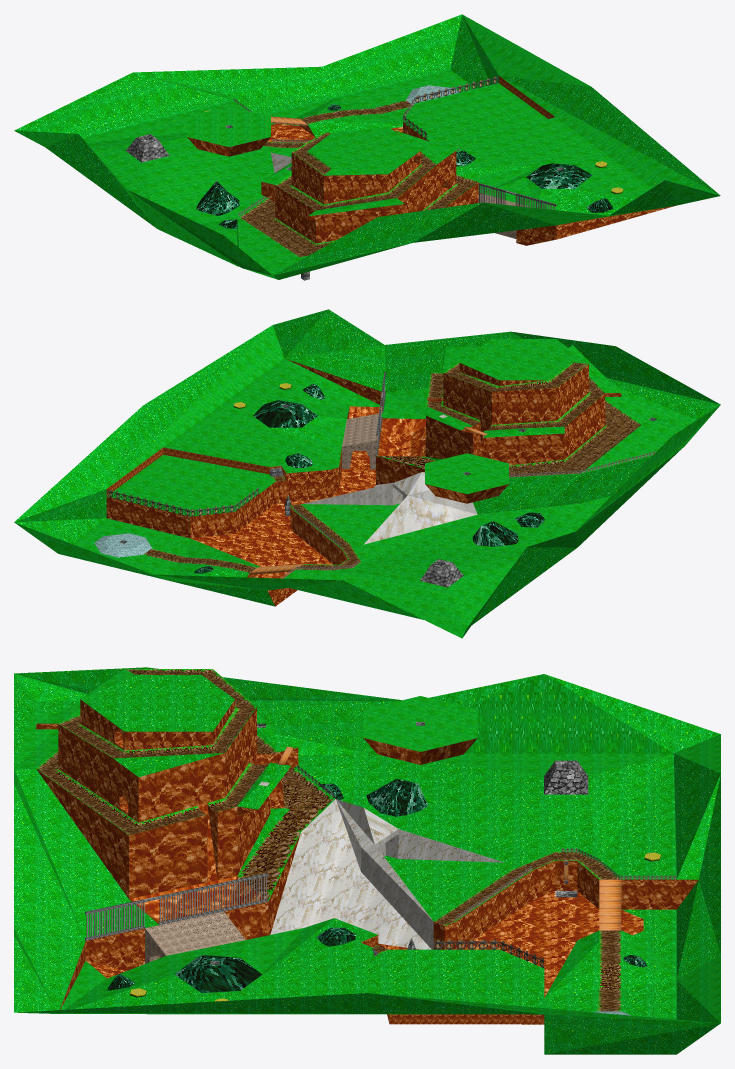
File: test-zone2.glb
3 views of the same model, one above another, from view 1: azimuth 30°, elevation 25°; view 2: azimuth 150°, elevation 25°; view 3: azimuth 270°, elevation 25° (orthographic). The views are drawn at different scales.
Parts seen in each view (by area): view 1: Shape_IndexedFaceSet.009, Shape_IndexedFaceSet.022, Shape_IndexedFaceSet.024, Shape_IndexedFaceSet.025, Shape_IndexedFaceSet.014, Shape_IndexedFaceSet.027, Shape_IndexedFaceSet.010, Shape_IndexedFaceSet.065, Shape_IndexedFaceSet.017, Shape_IndexedFaceSet.064, Shape_IndexedFaceSet.012; view 2: Shape_IndexedFaceSet.009, Shape_IndexedFaceSet.022, Shape_IndexedFaceSet.024, Shape_IndexedFaceSet.016, Shape_IndexedFaceSet.025, Shape_IndexedFaceSet.014, Shape_IndexedFaceSet.010, Shape_IndexedFaceSet.027, Shape_IndexedFaceSet.065, Shape_IndexedFaceSet.015, Shape_IndexedFaceSet.012, Shape_IndexedFaceSet.017 (+1 smaller); view 3: Shape_IndexedFaceSet.009, Shape_IndexedFaceSet.022, Shape_IndexedFaceSet.016, Shape_IndexedFaceSet.024, Shape_IndexedFaceSet.025, Shape_IndexedFaceSet.014, Shape_IndexedFaceSet.010, Shape_IndexedFaceSet.064, Shape_IndexedFaceSet.015, Shape_IndexedFaceSet.065, Shape_IndexedFaceSet.013, Shape_IndexedFaceSet.017 (+2 smaller).
Boxes of the visible parts, x1,y1,x2,y2 form: Shape_IndexedFaceSet.009: [14, 14, 720, 279]; Shape_IndexedFaceSet.022: [187, 76, 675, 245]; Shape_IndexedFaceSet.024: [262, 127, 455, 216]; Shape_IndexedFaceSet.025: [239, 130, 478, 257]; Shape_IndexedFaceSet.014: [196, 104, 613, 228]; Shape_IndexedFaceSet.027: [244, 200, 328, 256]; Shape_IndexedFaceSet.010: [263, 100, 412, 148]; Shape_IndexedFaceSet.065: [233, 76, 498, 242]; Shape_IndexedFaceSet.017: [125, 134, 459, 162]; Shape_IndexedFaceSet.064: [479, 185, 555, 209]; Shape_IndexedFaceSet.012: [406, 85, 458, 105]; Shape_IndexedFaceSet.009: [14, 309, 720, 638]; Shape_IndexedFaceSet.022: [106, 359, 621, 606]; Shape_IndexedFaceSet.024: [414, 339, 620, 460]; Shape_IndexedFaceSet.016: [302, 414, 477, 544]; Shape_IndexedFaceSet.025: [376, 361, 641, 477]; Shape_IndexedFaceSet.014: [194, 384, 545, 573]; Shape_IndexedFaceSet.010: [143, 475, 361, 573]; Shape_IndexedFaceSet.027: [509, 404, 636, 476]; Shape_IndexedFaceSet.065: [106, 451, 656, 578]; Shape_IndexedFaceSet.015: [342, 413, 381, 469]; Shape_IndexedFaceSet.012: [94, 533, 151, 557]; Shape_IndexedFaceSet.017: [270, 467, 463, 587]; Shape_IndexedFaceSet.009: [14, 667, 720, 1054]; Shape_IndexedFaceSet.022: [36, 699, 698, 1024]; Shape_IndexedFaceSet.016: [259, 781, 504, 949]; Shape_IndexedFaceSet.024: [37, 669, 297, 874]; Shape_IndexedFaceSet.025: [36, 669, 333, 900]; Shape_IndexedFaceSet.014: [107, 779, 647, 992]; Shape_IndexedFaceSet.010: [372, 851, 621, 1011]; Shape_IndexedFaceSet.064: [86, 876, 267, 937]; Shape_IndexedFaceSet.015: [145, 911, 245, 963]; Shape_IndexedFaceSet.065: [295, 765, 676, 967]; Shape_IndexedFaceSet.013: [85, 722, 577, 964]; Shape_IndexedFaceSet.017: [372, 760, 588, 955].
Size of the model in its own units: 328 by 93.91 by 328.
Materials: 22 (21 with a texture image).
